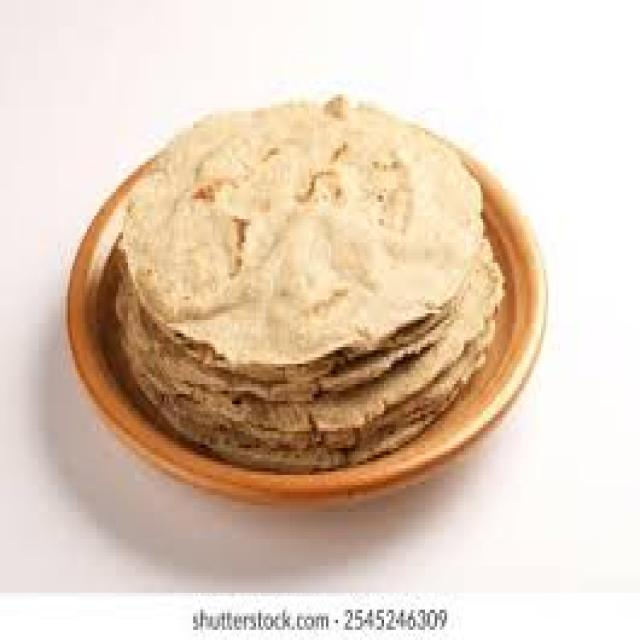ROTI: (121, 94, 483, 354)
